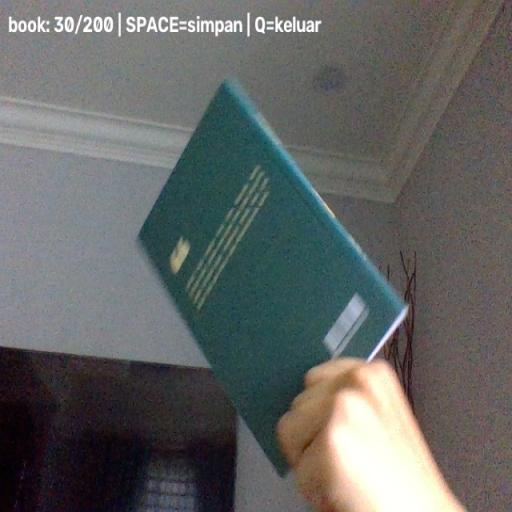Book: (136, 78, 410, 479)
